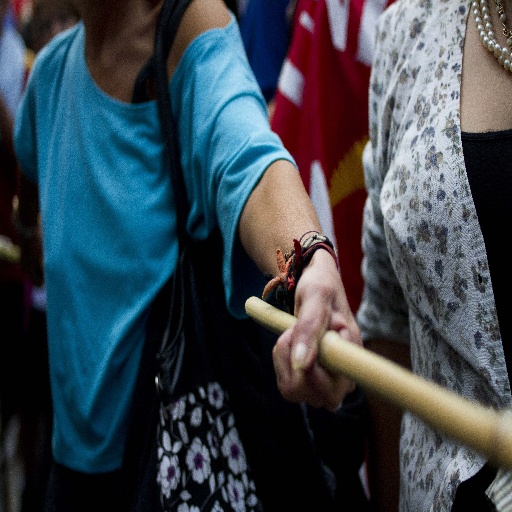hand: (272, 257, 363, 409)
